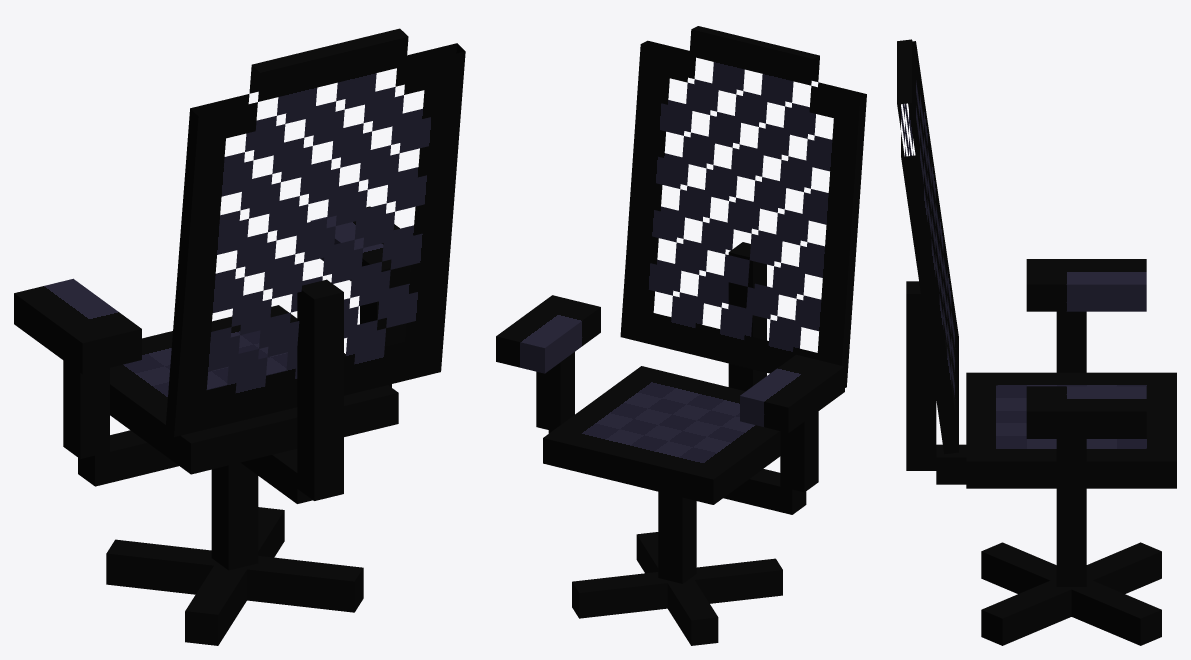
Rendered from officechair.glb.
3 renders of one model, left to right at view 1: azimuth 30°, elevation 25°; view 2: azimuth 150°, elevation 25°; view 3: azimuth 270°, elevation 25°, orthographic. The views are drawn at different scales.
Visible parts, largest first — view 1: leuning, chair, zetel, steun (×2); view 2: leuning, chair, zetel, steun (×2); view 3: chair, zetel, steun (×2), leuning.
Part boxes in pixels (box(x1,y1,x2,y2)): leuning: box(165, 28, 465, 436); chair: box(63, 279, 406, 645); zetel: box(110, 305, 398, 474); steun (×2): box(14, 206, 410, 374); leuning: box(620, 26, 866, 387); chair: box(536, 242, 818, 645); zetel: box(543, 366, 780, 504); steun (×2): box(496, 295, 844, 432); chair: box(906, 281, 1161, 645); zetel: box(966, 372, 1176, 488); steun (×2): box(1026, 259, 1146, 438); leuning: box(897, 39, 958, 454).
Bounding box in the file's own units: 0.75 × 1.23 × 0.5814.
Materials: 1 (1 with a texture image).
